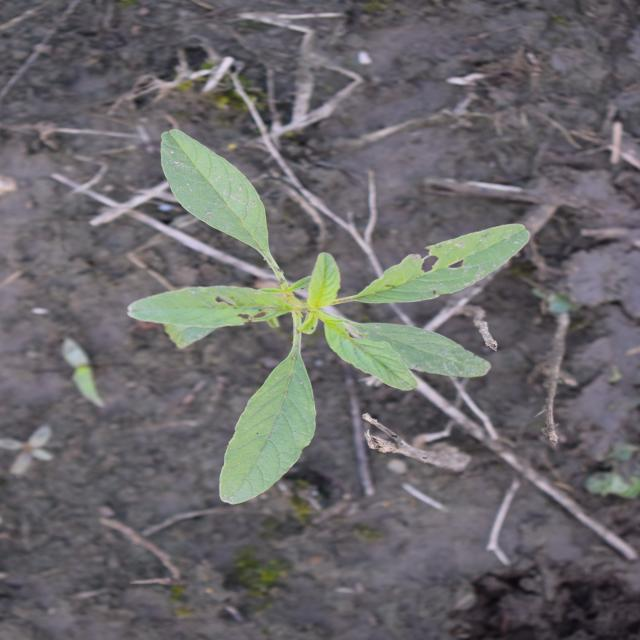Waterhemp: (123, 128, 534, 508)
